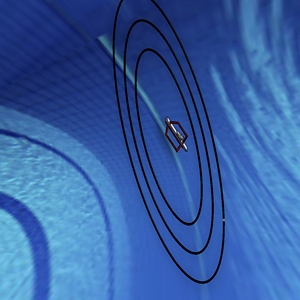circle: (104, 1, 244, 285)
submarine: (156, 109, 192, 162)
